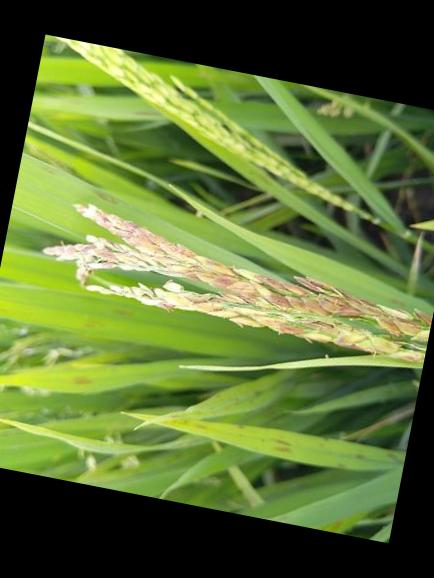Panicle Blight: (43, 205, 433, 340), (110, 284, 423, 363)
